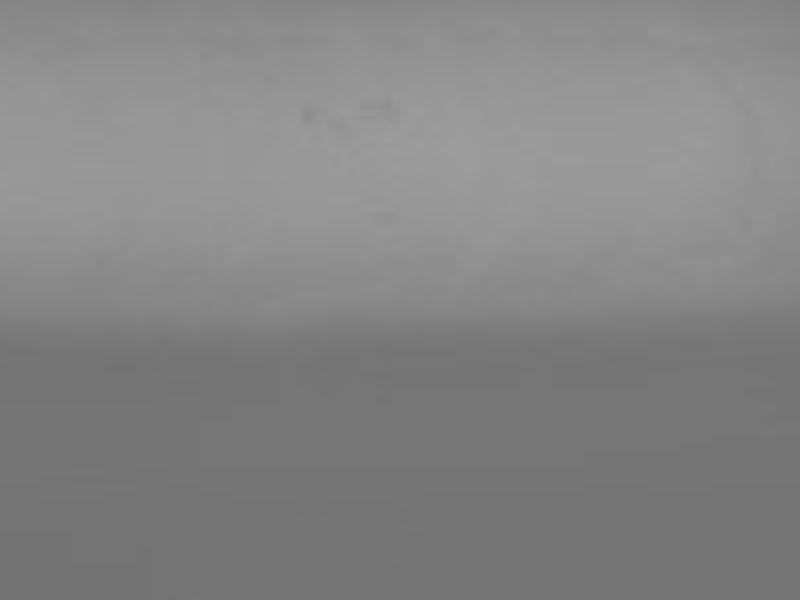defect: (374, 92, 396, 118), (351, 99, 373, 119), (299, 102, 316, 125)
